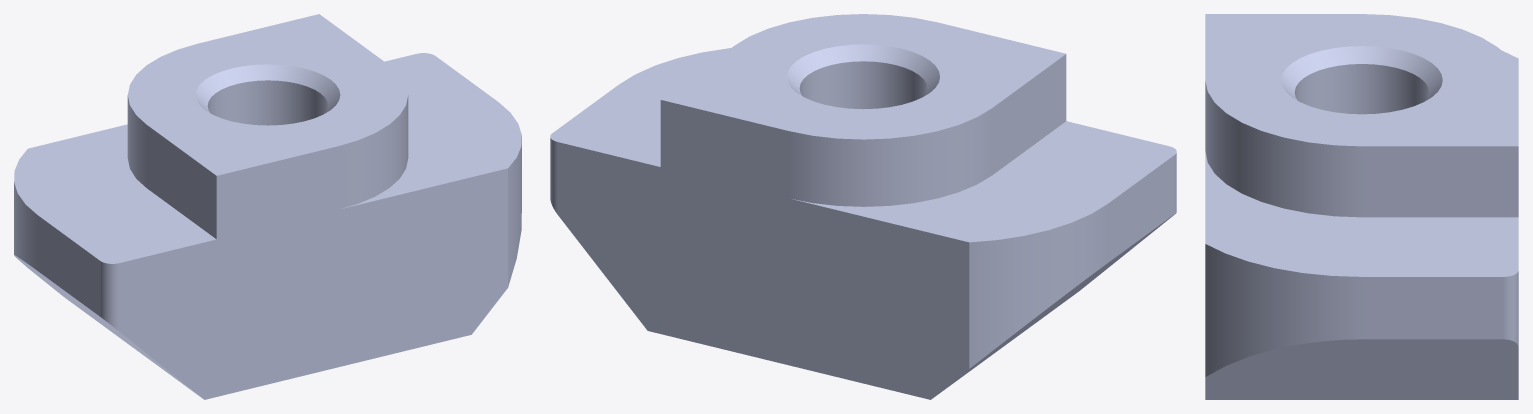
Rendered from TPBB-TPBB-N-10-M5.glb.
3 views of the same model, side by side, from view 1: azimuth 30°, elevation 25°; view 2: azimuth 150°, elevation 25°; view 3: azimuth 270°, elevation 25° (orthographic). The views are drawn at different scales.
Parts seen in each view (by area): view 1: 1735623410698; view 2: 1735623410698; view 3: 1735623410698.
Boxes of the visible parts, x1,y1,x2,y2 form: 1735623410698: (14, 14, 521, 399); 1735623410698: (550, 14, 1176, 399); 1735623410698: (1205, 14, 1518, 399).
Size of the model in its own units: 0.019 by 0.0087 by 0.01.
